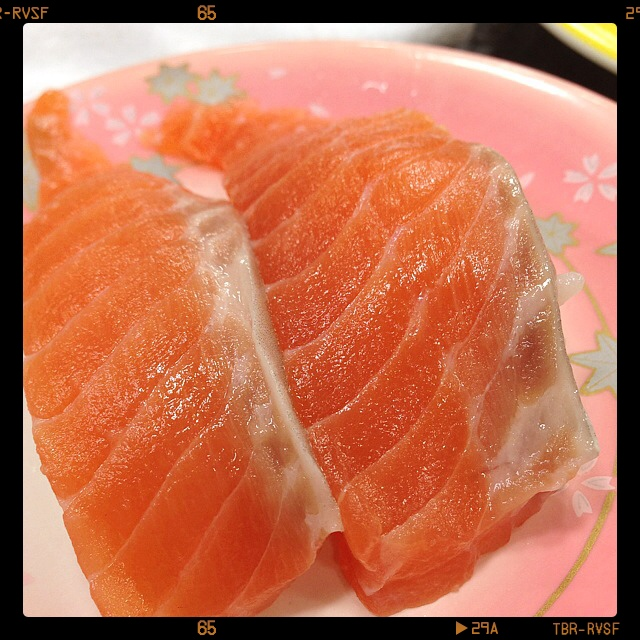salmon: (220, 109, 582, 607), (23, 134, 330, 626)
